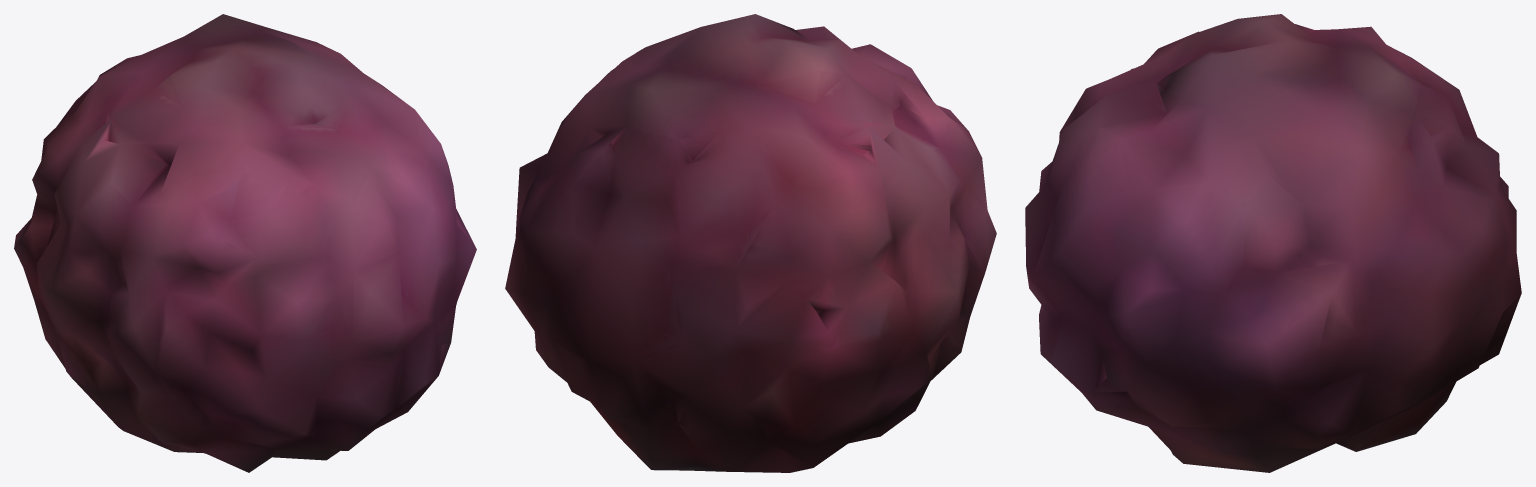
File: spore_truffle.glb
The picture shows the model from 3 angles, left to right: view 1: azimuth 30°, elevation 25°; view 2: azimuth 150°, elevation 25°; view 3: azimuth 270°, elevation 25°; orthographic projection. The views are drawn at different scales.
Parts seen in each view (by area): view 1: model; view 2: model; view 3: model.
Boxes of the visible parts, bbox=[...] form: model: bbox=[14, 14, 476, 472]; model: bbox=[505, 14, 996, 472]; model: bbox=[1025, 14, 1521, 472].
Size of the model in its own units: 0.3755 by 0.3559 by 0.3926.
1 material, 1 textured.
